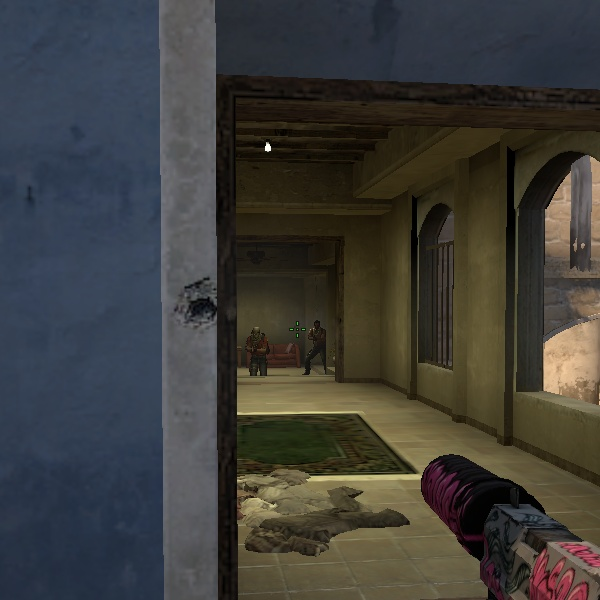t_body: (299, 317, 330, 373), (244, 324, 272, 376)
